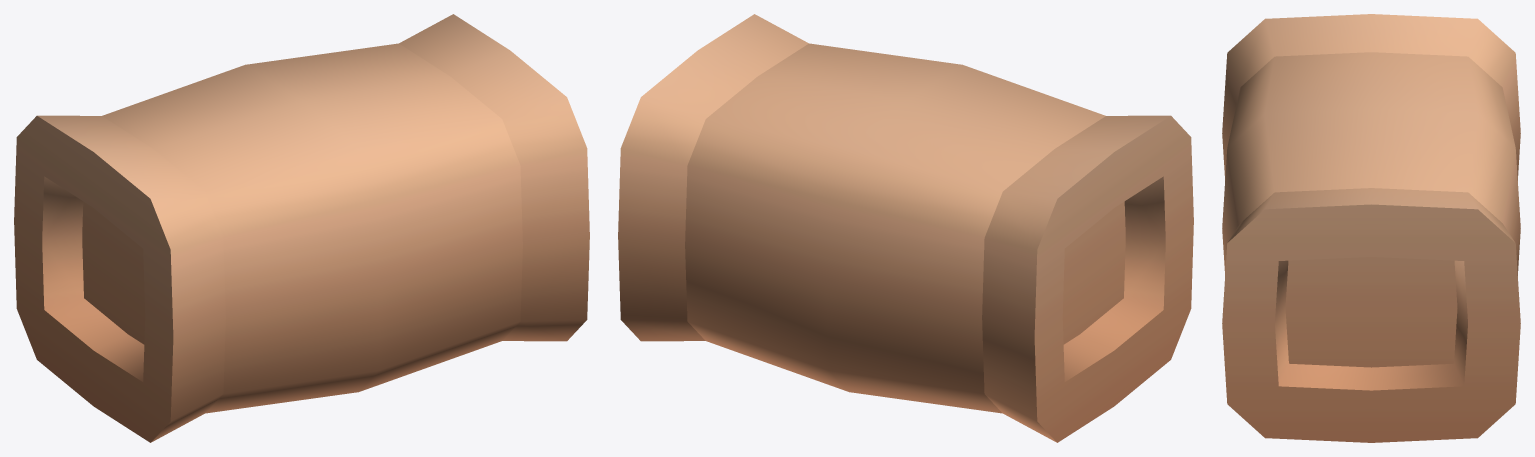
The model's file is k-graveyard-hay-bale.glb.
3 views of the same model, side by side, from view 1: azimuth 30°, elevation 25°; view 2: azimuth 150°, elevation 25°; view 3: azimuth 270°, elevation 25° (orthographic). The views are drawn at different scales.
Visible parts, largest first — view 1: hay-bale; view 2: hay-bale; view 3: hay-bale.
Part boxes in pixels (<box>): hay-bale: <box>14,14,589,442</box>; hay-bale: <box>618,14,1193,442</box>; hay-bale: <box>1222,14,1520,442</box>.
Bounding box in the file's own units: 0.6066 × 0.3541 × 0.402.
1 material, 1 textured.
